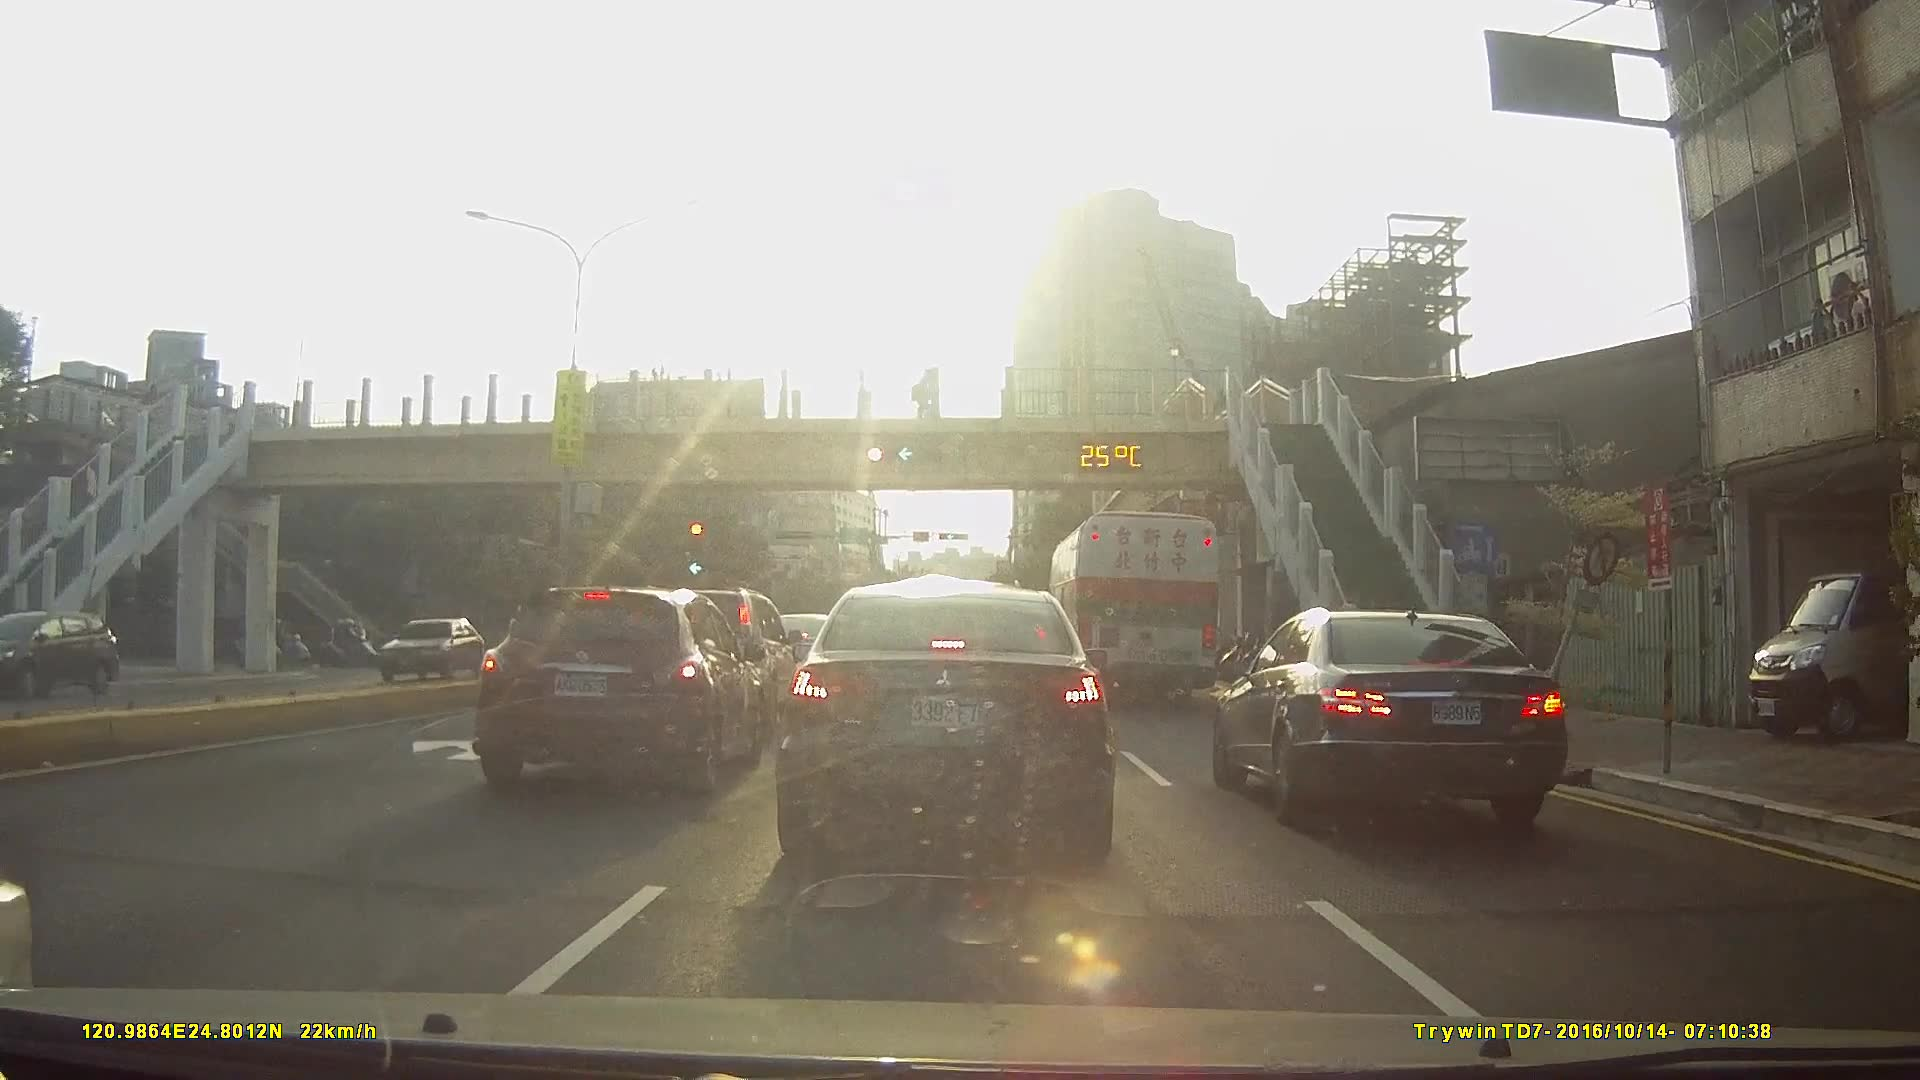pedestrian: (915, 369, 937, 417)
rider: (320, 614, 388, 670)
vehicle: (771, 578, 1120, 863), (1206, 600, 1563, 831), (466, 580, 768, 795), (1048, 508, 1221, 700), (0, 607, 117, 700), (368, 616, 480, 681)
